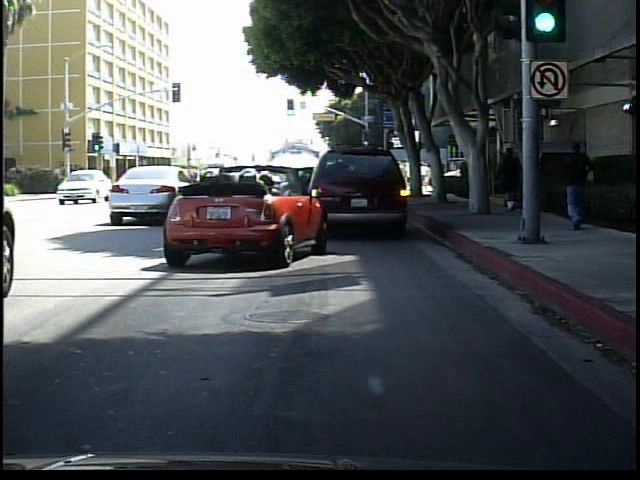person: (555, 133, 603, 240), (495, 140, 523, 213)
